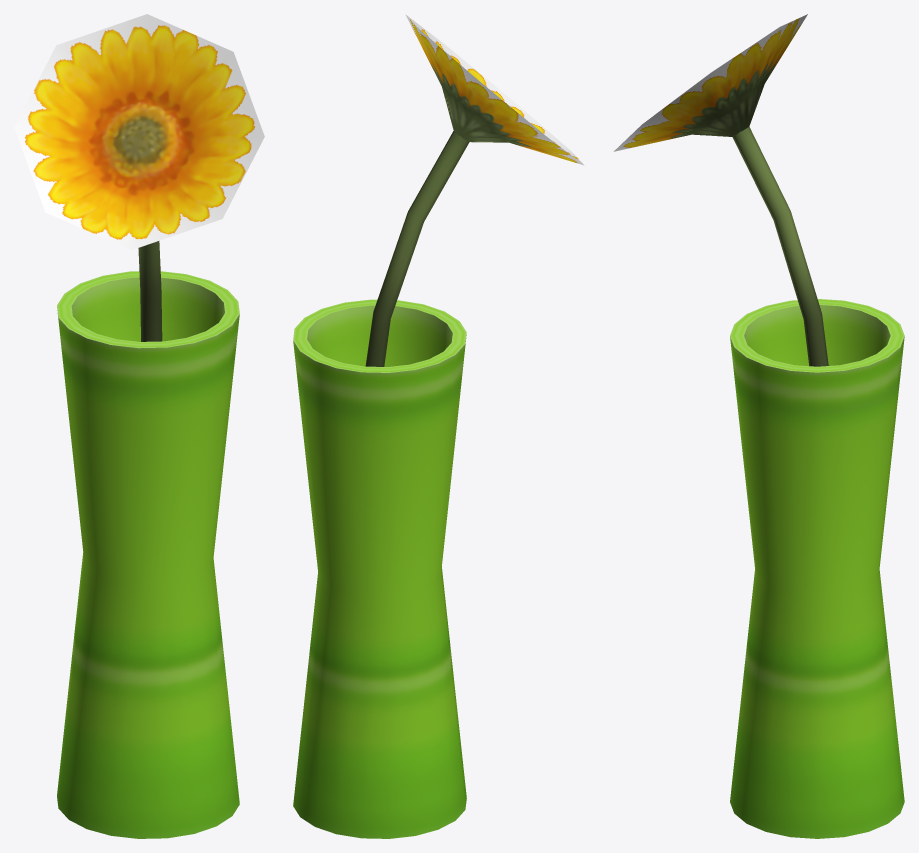
Rendered from GreenOneVase_HD.fbx.
3 renders of one model, left to right at view 1: azimuth 30°, elevation 25°; view 2: azimuth 150°, elevation 25°; view 3: azimuth 270°, elevation 25°, orthographic. The views are drawn at different scales.
Parts seen in each view (by area): view 1: GreenOneVase; view 2: GreenOneVase; view 3: GreenOneVase.
Boxes of the visible parts, bbox=[...] form: GreenOneVase: bbox=[14, 14, 264, 838]; GreenOneVase: bbox=[293, 14, 584, 838]; GreenOneVase: bbox=[613, 14, 904, 838].
Size of the model in its own units: 0.2407 by 0.7751 by 0.2675.
